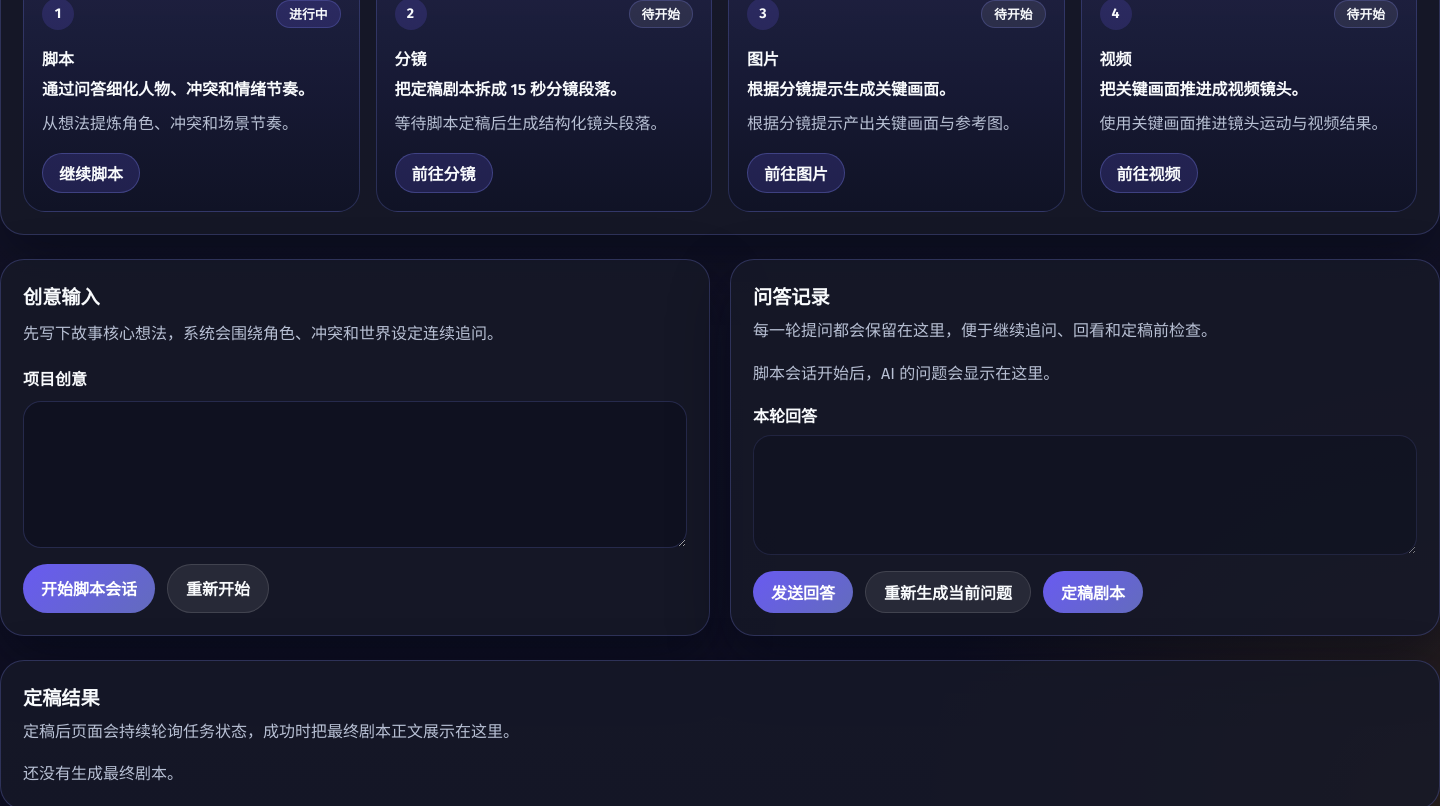
project script page › freezes the full session UI while finalize polling is active
(page scrolled)
Type "Updated idea" into the text box named "Script idea input" at (355, 475), box [23,401,687,548]
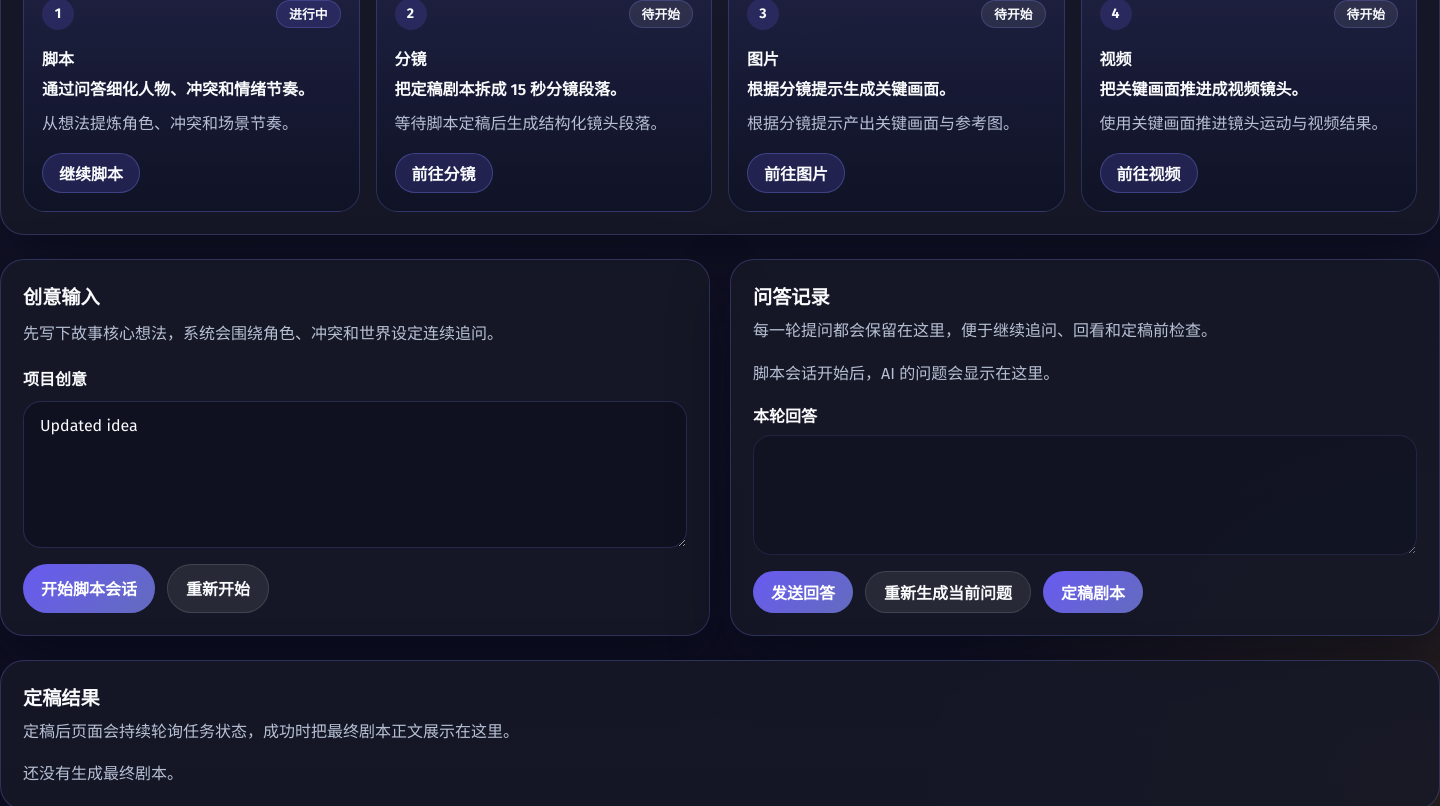
Click the button with aria-label "Start script session" at (89, 588), box [23,564,155,613]
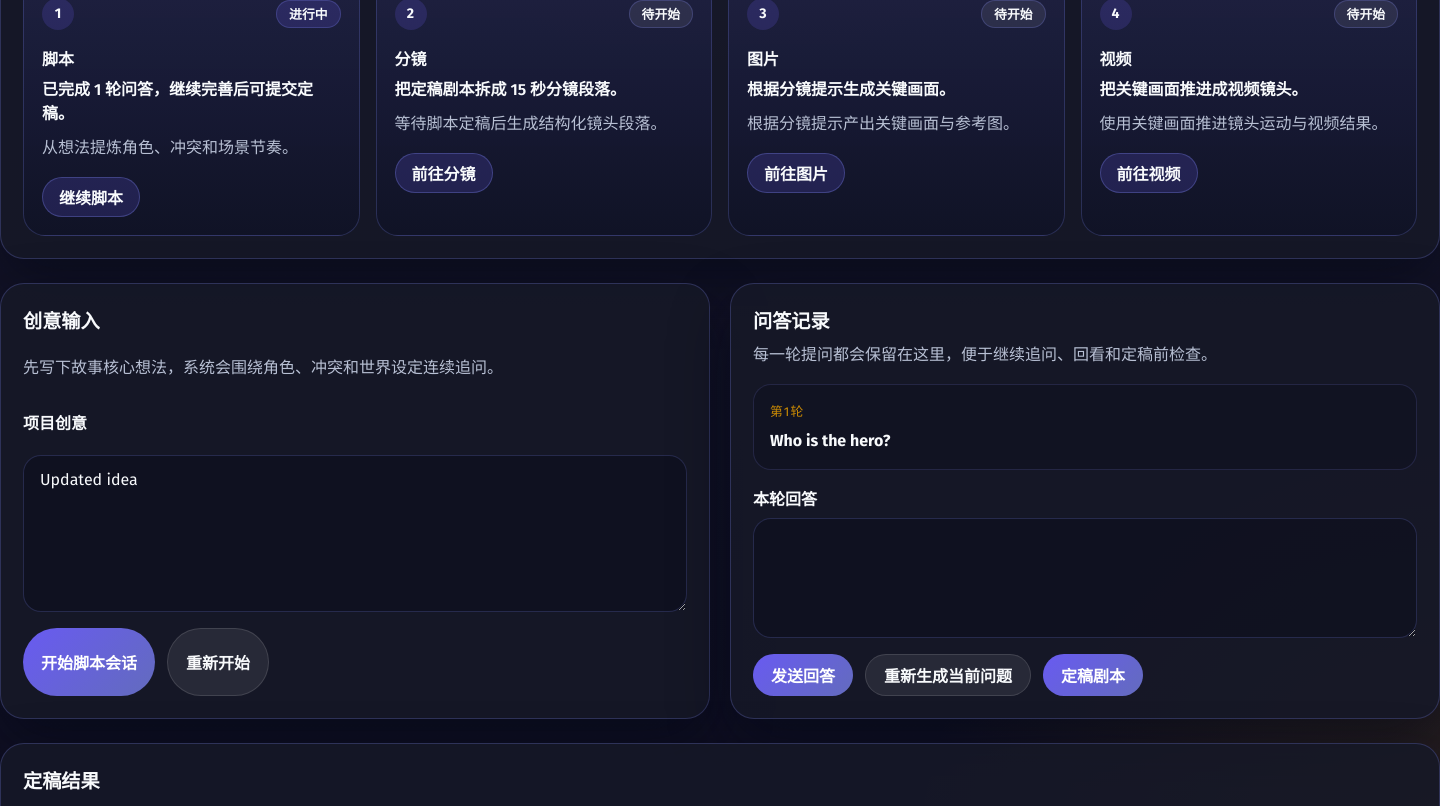
Result: the text "Who is the hero?" is shown at [770,430,890,450]
Type "A courier" into the text box named "Script answer input" at (1085, 578), box [753,518,1417,638]
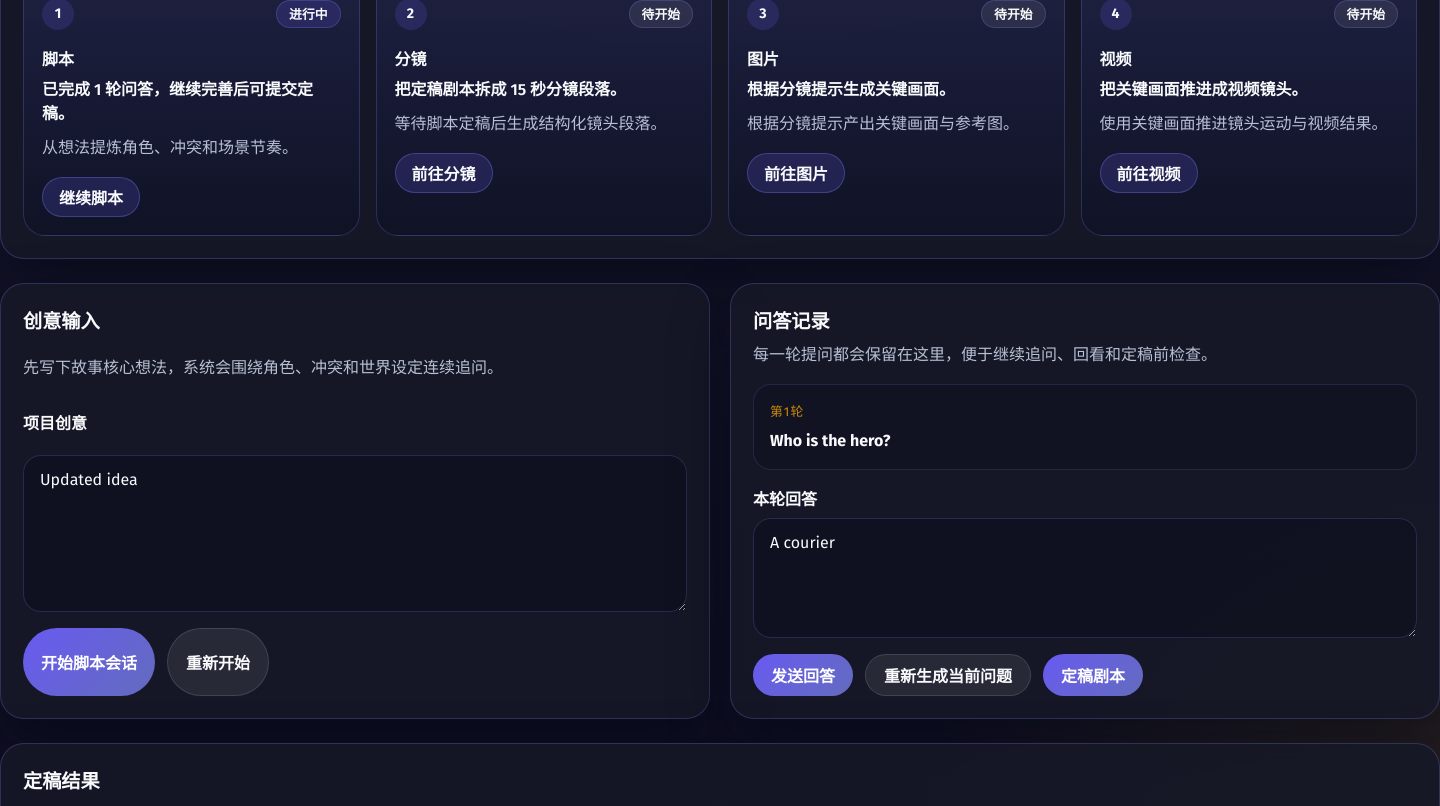
Click the button with aria-label "Finalize script" at (1093, 675), box [1043,654,1143,696]
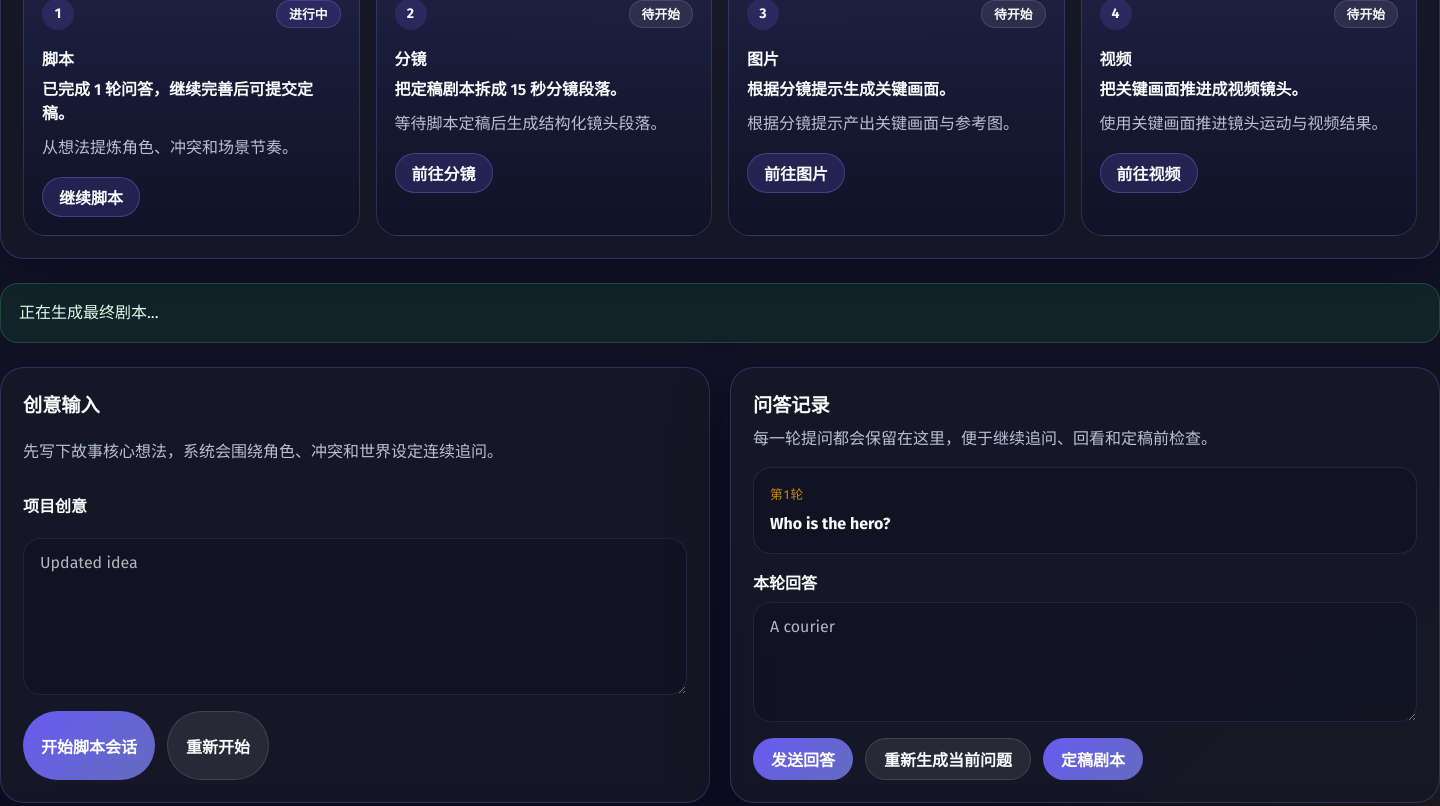
Result: the text box named "Script answer input" is disabled at [753,602,1417,722]
Result: the button with aria-label "Send script answer" is disabled at [753,738,853,780]
Result: the button with aria-label "Regenerate script question" is disabled at [865,738,1031,780]
